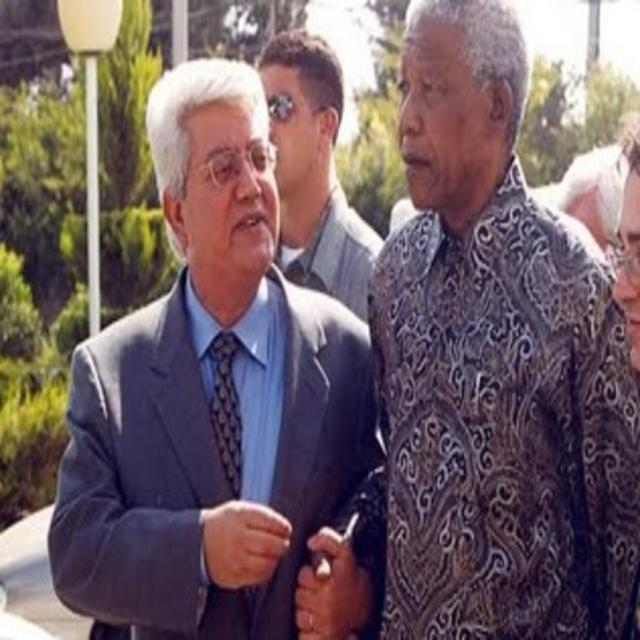body: (44, 52, 397, 639), (362, 0, 640, 639), (254, 27, 387, 327), (554, 128, 640, 375)
